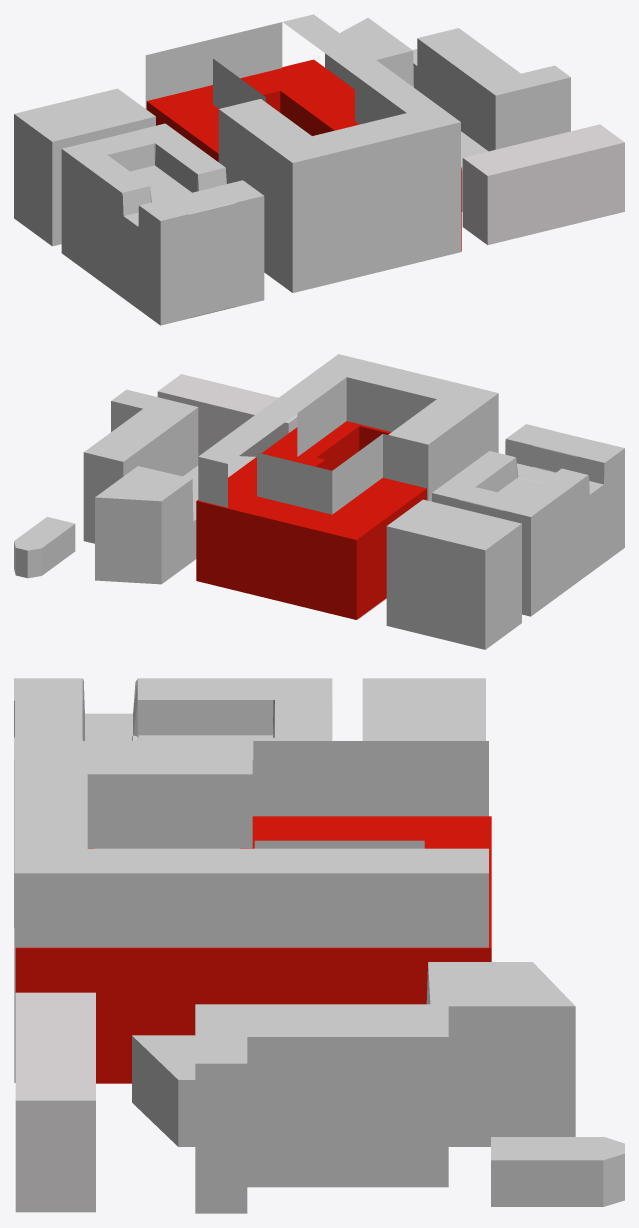
Rendered from planfac1.glb.
The picture shows the model from 3 angles, top to bottom: view 1: azimuth 30°, elevation 25°; view 2: azimuth 150°, elevation 25°; view 3: azimuth 270°, elevation 25°; orthographic projection. The views are drawn at different scales.
Parts seen in each view (by area): view 1: Cube.002, Cube.001, Cube.005, Cube.006, Cube, Cube.003, Cube.004; view 2: Cube.002, Cube.003, Cube.001, Cube, Cube.004, Cube.006, Cube.005, Cube.007; view 3: Cube.002, Cube.006, Cube.003, Cube.004, Cube.001, Cube.005, Cube.007, Cube.
Boxes of the visible parts, x1,y1,x2,y2 form: Cube.002: [145, 14, 460, 292]; Cube.001: [61, 123, 264, 325]; Cube.005: [462, 124, 624, 245]; Cube.006: [417, 28, 570, 151]; Cube: [14, 88, 155, 246]; Cube.003: [146, 59, 461, 251]; Cube.004: [325, 18, 488, 211]; Cube.002: [198, 354, 498, 619]; Cube.003: [196, 421, 426, 619]; Cube.001: [432, 424, 624, 616]; Cube: [386, 499, 521, 649]; Cube.004: [95, 456, 255, 584]; Cube.006: [83, 389, 198, 543]; Cube.005: [157, 374, 297, 456]; Cube.007: [14, 517, 75, 578]; Cube.002: [14, 741, 488, 1082]; Cube.006: [195, 1004, 448, 1213]; Cube.003: [15, 816, 491, 1083]; Cube.004: [132, 962, 575, 1146]; Cube.001: [14, 678, 332, 927]; Cube.005: [15, 992, 95, 1212]; Cube.007: [491, 1137, 624, 1206]; Cube: [362, 678, 485, 740].
Size of the model in its own units: 7.51 by 2 by 5.28.
